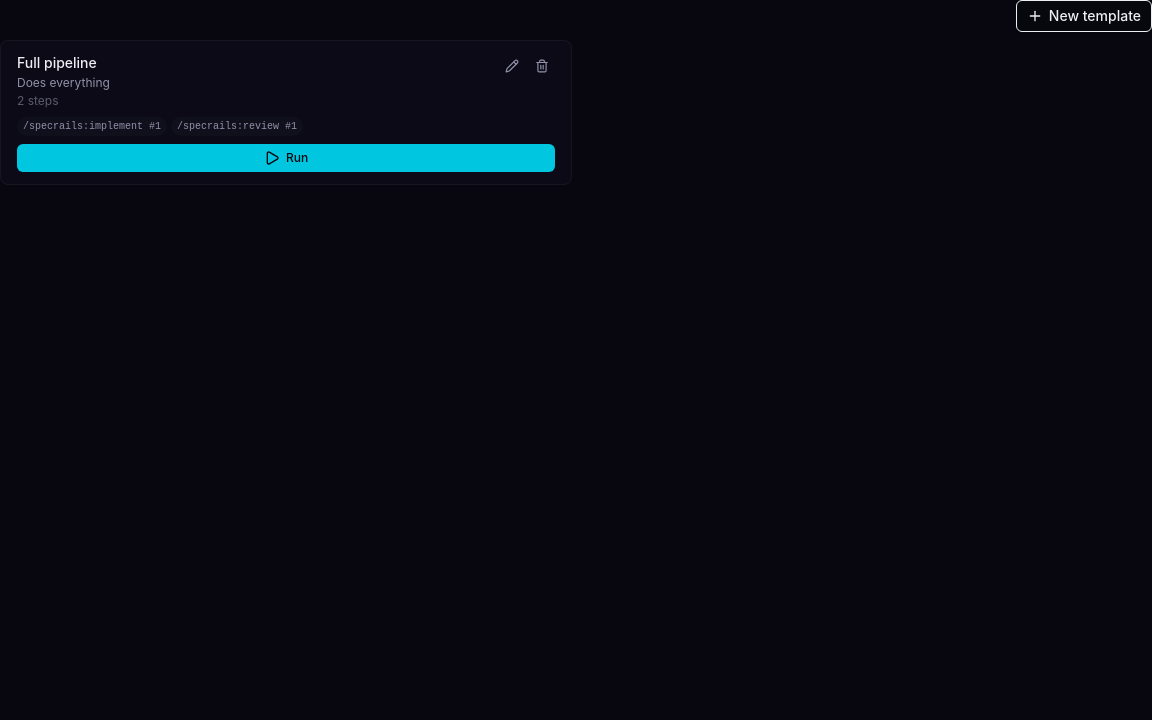
Test: TemplateLibrary › opens New Template dialog from "New template" button
Click the button "New template" at (1084, 16), box [1016, 0, 1151, 32]
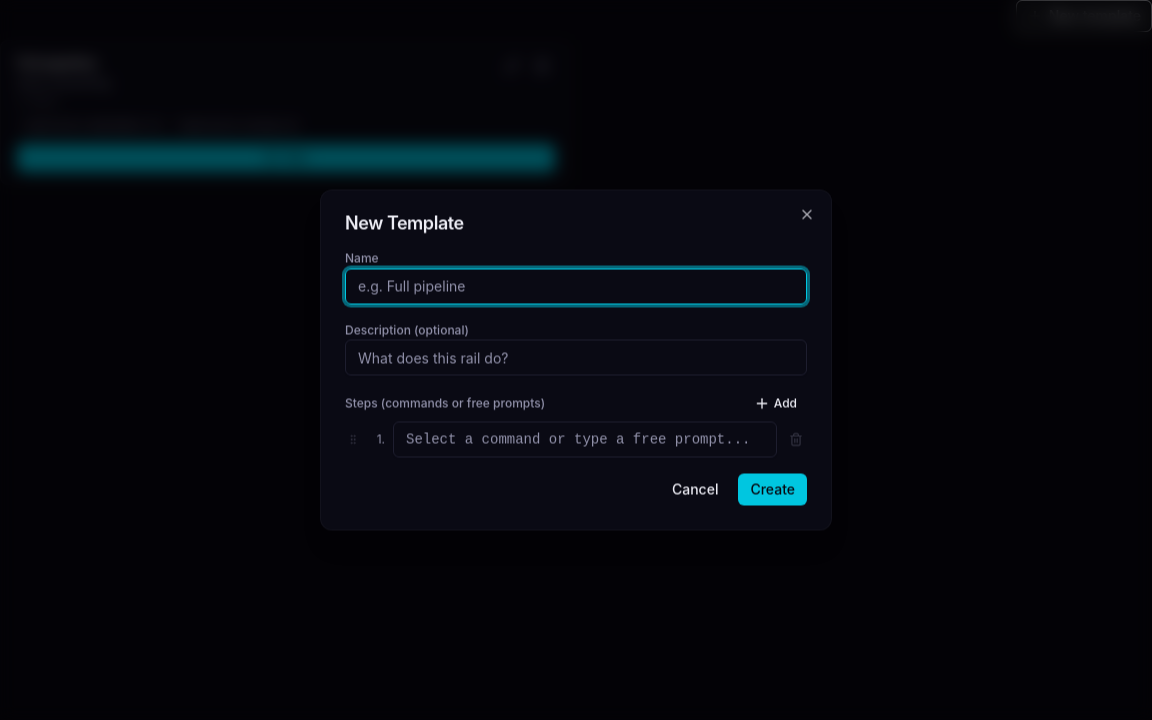
Result: the dialog is shown at [320, 190, 832, 530]
Result: the heading "New Template" is shown at [345, 212, 464, 234]
